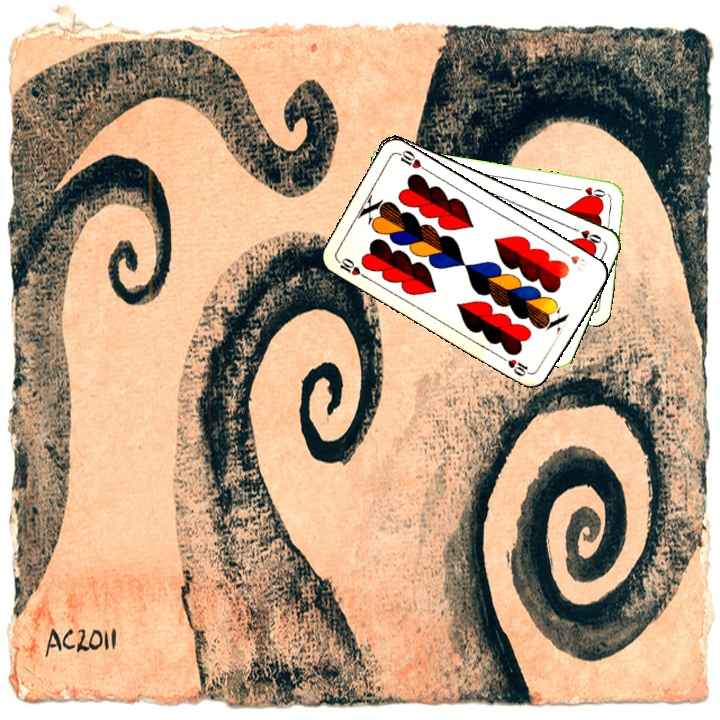H10: (557, 246, 592, 275), (332, 254, 369, 280)
HO: (566, 223, 605, 246), (572, 183, 613, 202)
